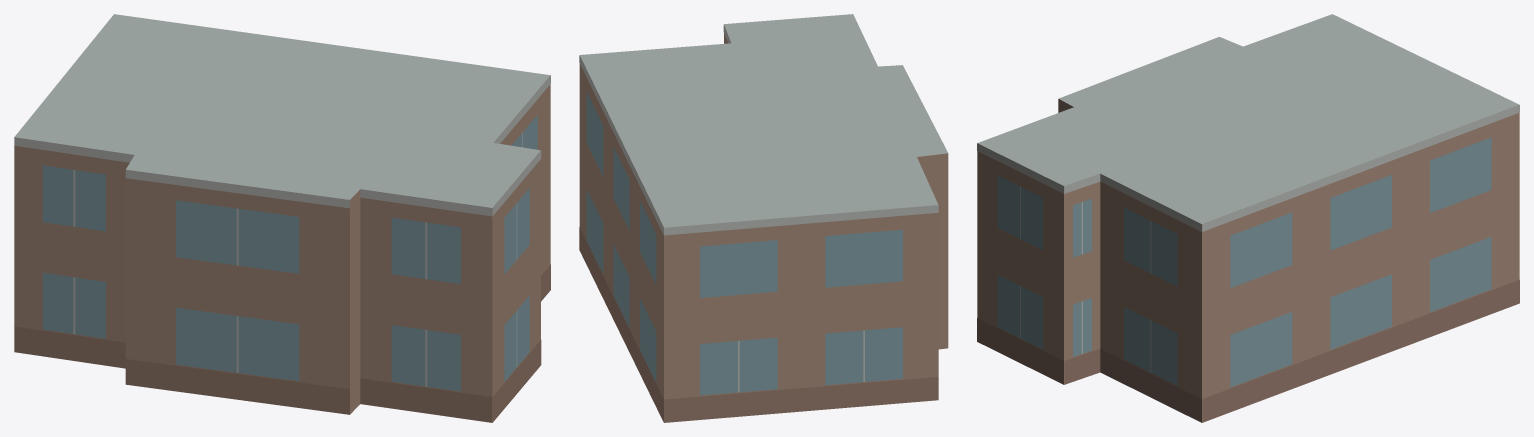
File: survey-upis-32933461.glb
3 renders of one model, left to right at view 1: azimuth 30°, elevation 25°; view 2: azimuth 150°, elevation 25°; view 3: azimuth 270°, elevation 25°, orthographic. The views are drawn at different scales.
Visible parts, largest first — view 1: survey-upis-32933461.tmp; view 2: survey-upis-32933461.tmp; view 3: survey-upis-32933461.tmp.
Boxes of the visible parts, bbox=[...] form: survey-upis-32933461.tmp: bbox=[14, 14, 550, 422]; survey-upis-32933461.tmp: bbox=[579, 14, 948, 422]; survey-upis-32933461.tmp: bbox=[977, 14, 1519, 422].
Size of the model in its own units: 14.08 by 6.2 by 15.35.
